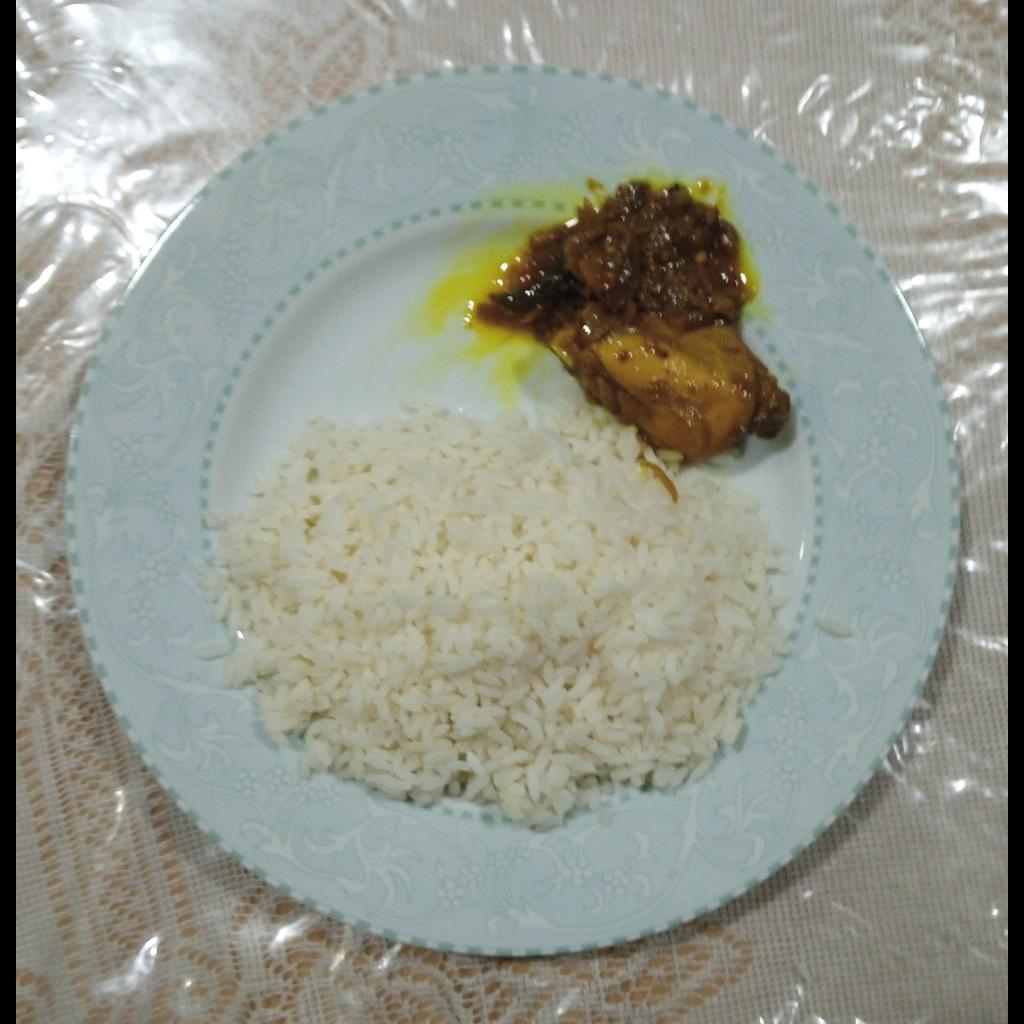chicken: (542, 311, 796, 463)
rice: (190, 396, 790, 834)
